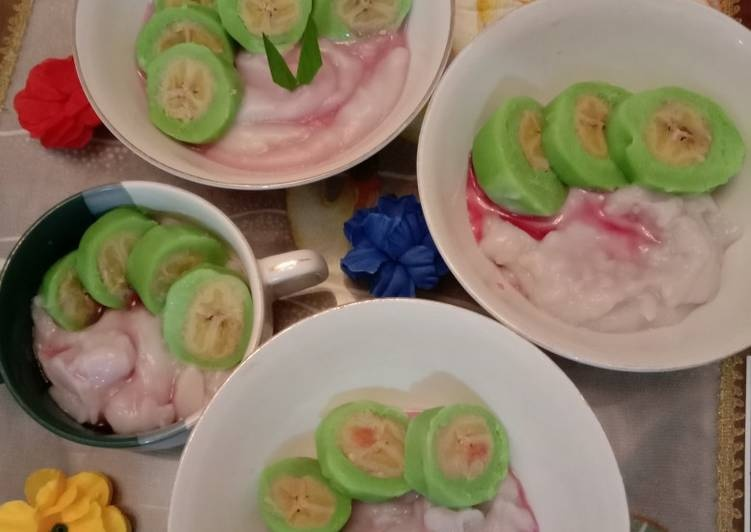pisang_ijo: (617, 86, 746, 199)
